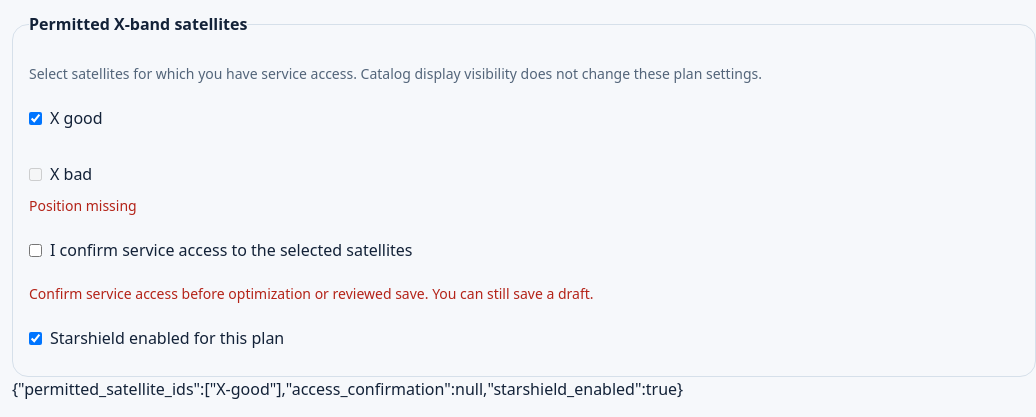
Test case: persists the operational Starshield toggle independently of catalog display
Click the checkbox labelled "Starshield enabled for this plan" at [36, 338], box [29, 332, 42, 344]
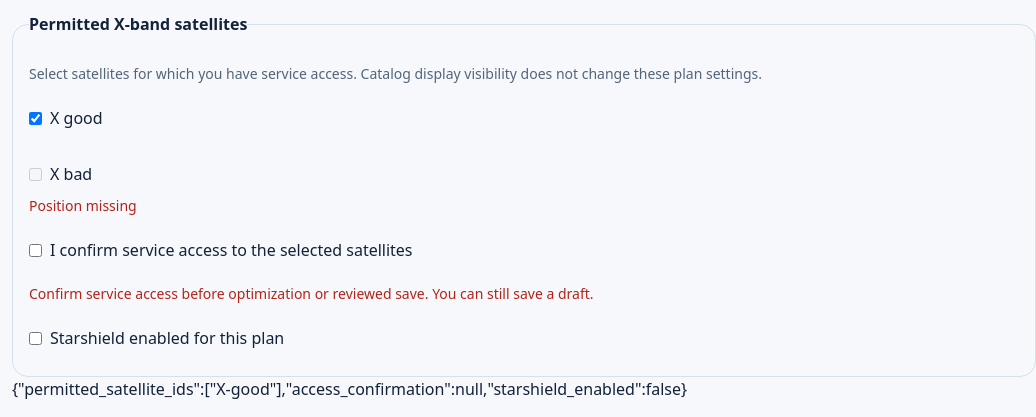
Check: the text "\"starshield_enabled\":false" is shown, box [12, 378, 687, 400]
